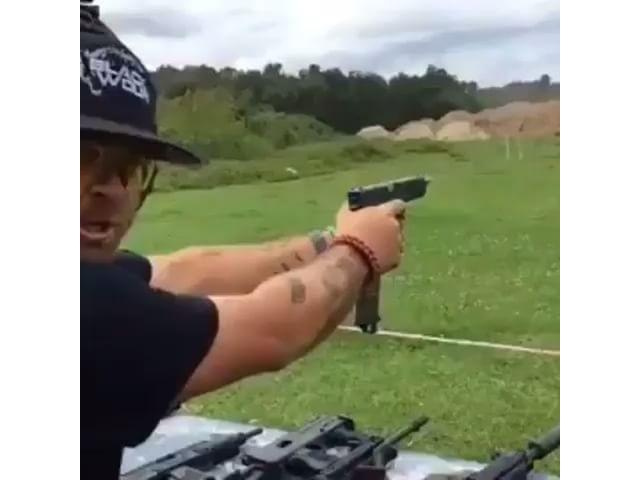pistol: (342, 168, 433, 301)
